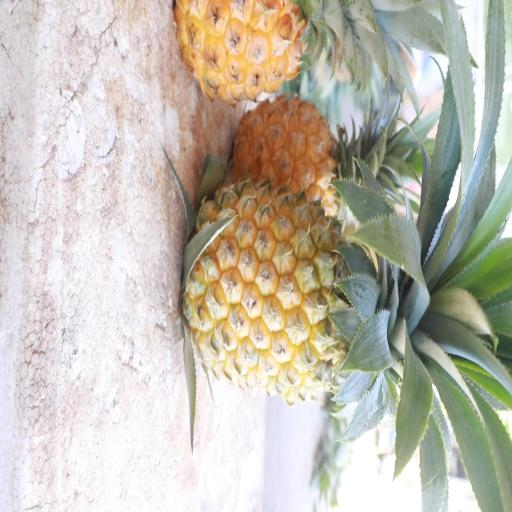Pineapple - v8 v1: (178, 178, 416, 410), (171, 0, 364, 108), (231, 89, 370, 230), (244, 98, 244, 99)
